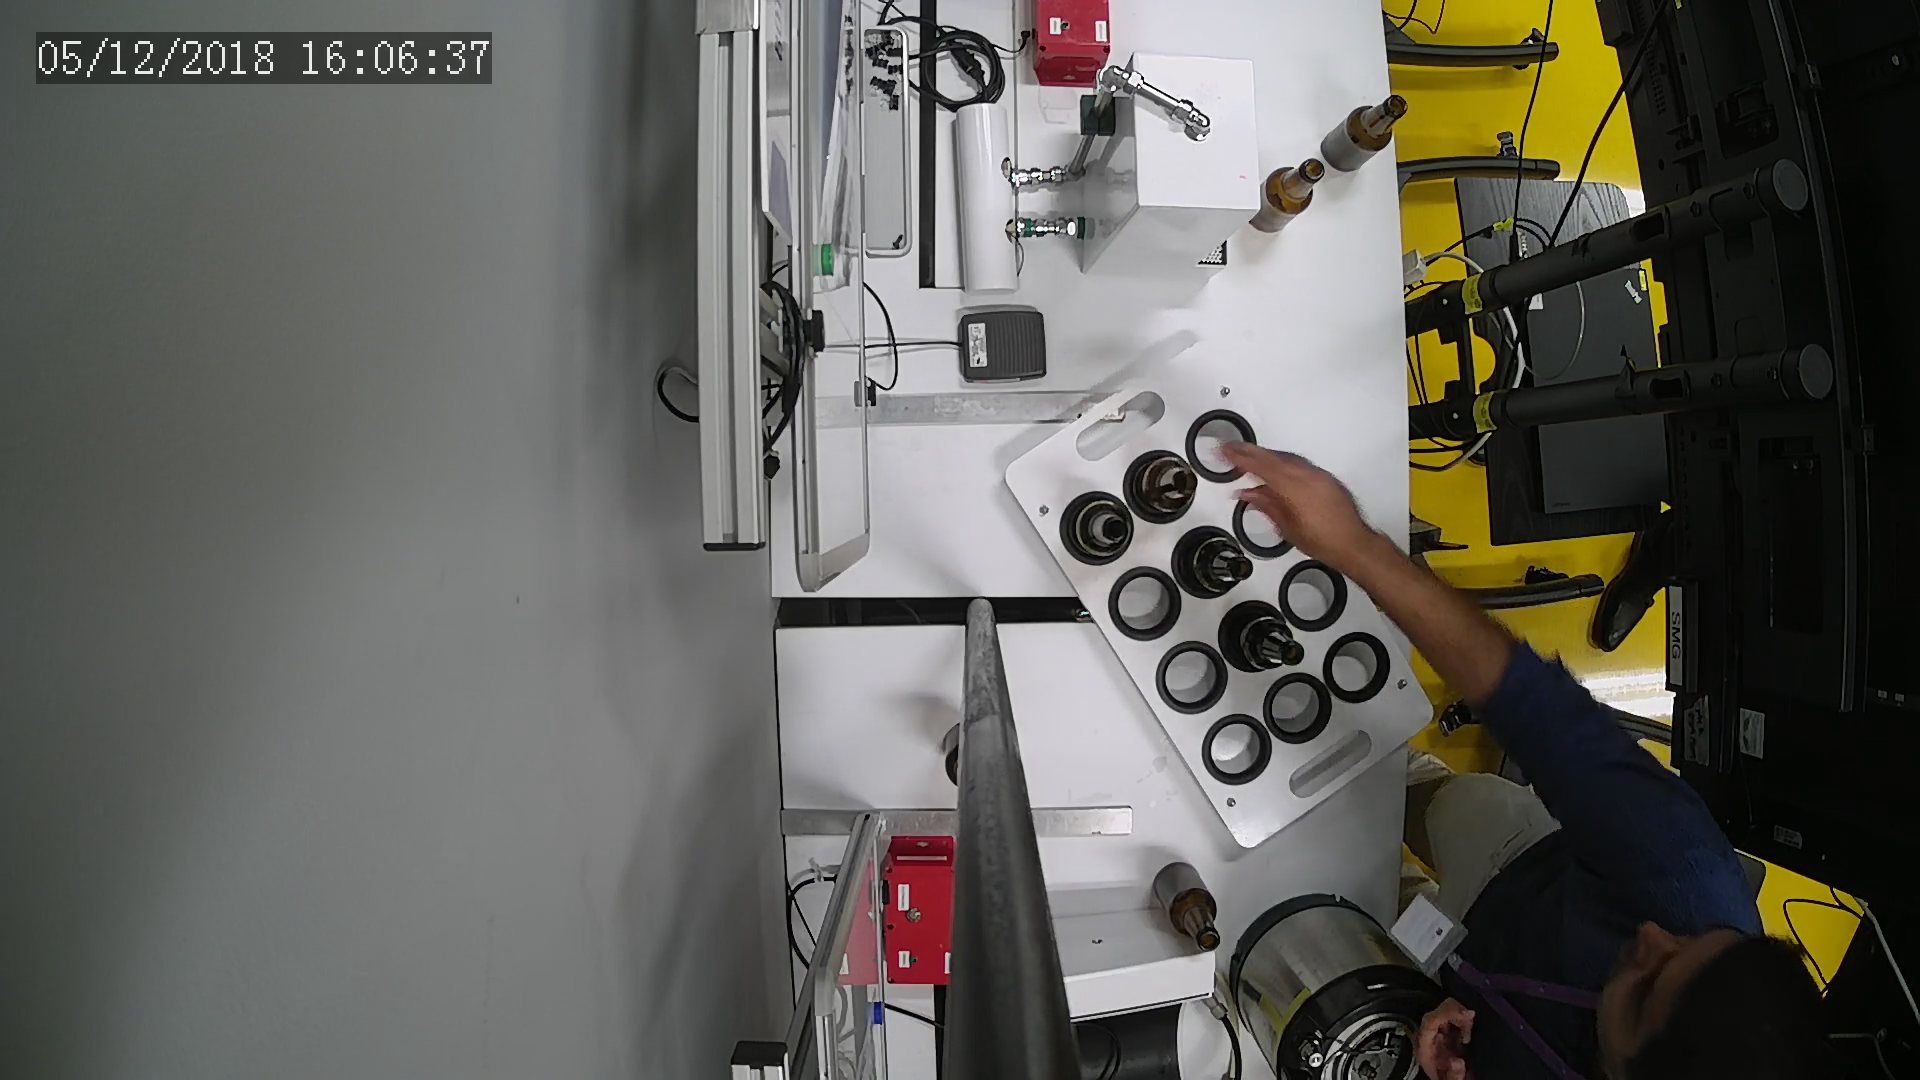filled_bottle: (1218, 599, 1308, 673), (1174, 526, 1255, 601), (1127, 447, 1201, 518), (1065, 495, 1133, 564)
trolley: (1004, 334, 1431, 855)
unfilled_bottle: (1324, 91, 1408, 171), (1249, 152, 1327, 236), (1153, 862, 1224, 953)
